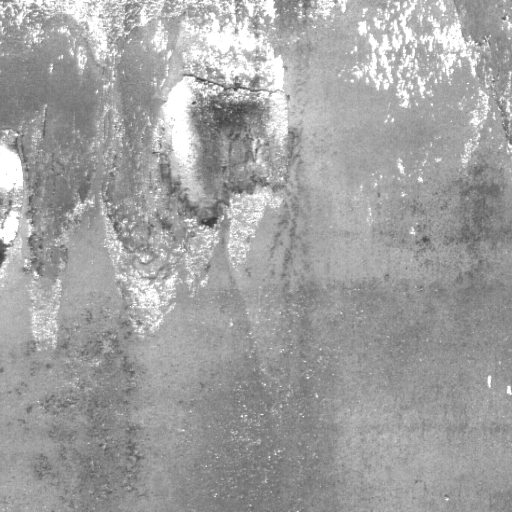qiaopi: (151, 71, 290, 225), (1, 125, 26, 276)
